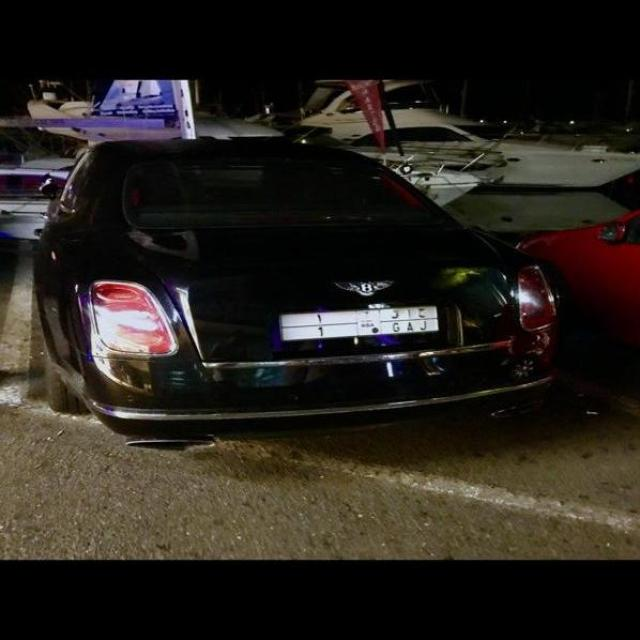license_plate: (281, 304, 438, 343)
